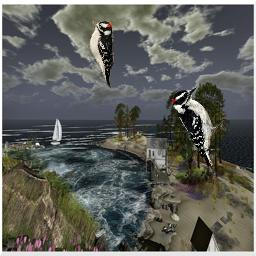Woodpecker: (171, 87, 230, 169), (88, 21, 114, 88)
